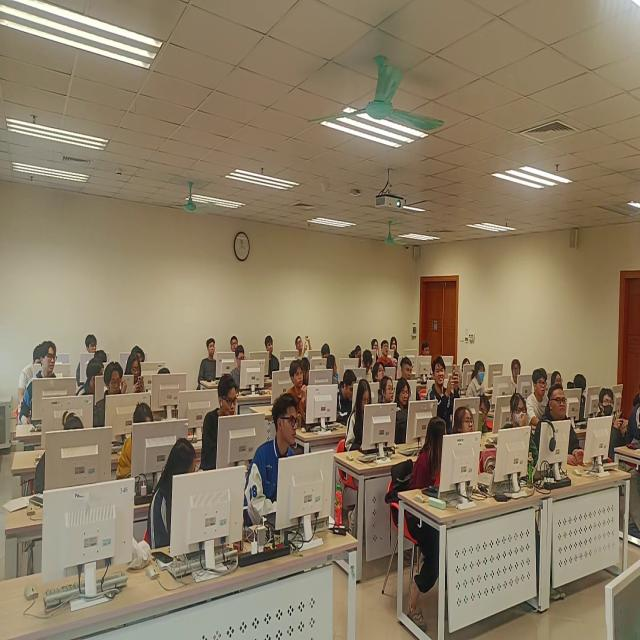raise_head: (248, 390, 300, 532), (146, 436, 197, 548), (197, 372, 239, 471), (535, 382, 584, 465), (21, 340, 58, 426), (594, 387, 631, 456), (287, 358, 311, 426), (527, 366, 550, 425), (197, 336, 220, 389), (506, 393, 532, 430), (453, 404, 478, 439), (264, 333, 281, 379), (467, 359, 488, 396), (630, 380, 640, 449), (379, 373, 396, 410), (377, 338, 397, 368), (400, 354, 416, 384), (83, 330, 100, 353), (512, 356, 523, 390), (374, 361, 388, 383), (550, 369, 564, 387), (391, 334, 401, 357), (229, 335, 240, 352), (422, 339, 432, 357), (371, 338, 380, 354)
using_computer: (35, 413, 86, 498), (118, 398, 156, 486), (345, 378, 375, 453), (93, 361, 125, 430), (17, 343, 43, 401), (336, 368, 359, 424), (397, 376, 415, 433), (570, 371, 588, 422), (231, 343, 249, 389), (358, 349, 375, 383), (479, 394, 493, 434), (302, 351, 313, 385), (132, 344, 147, 361), (421, 338, 433, 359), (351, 343, 364, 361), (94, 347, 108, 363), (157, 366, 175, 377), (320, 343, 332, 359), (463, 357, 472, 377)
using_phone: (428, 354, 464, 423), (124, 352, 148, 394), (294, 331, 313, 359)
